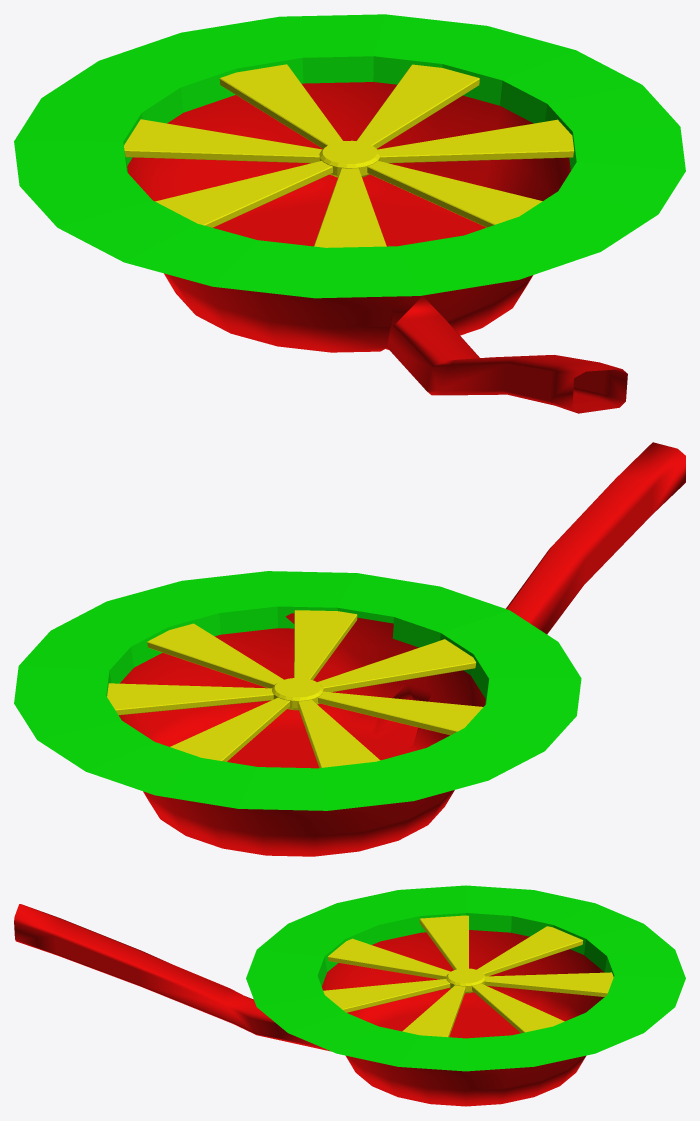
Rendered from crater.fbx.
3 views of the same model, one above another, from view 1: azimuth 30°, elevation 25°; view 2: azimuth 150°, elevation 25°; view 3: azimuth 270°, elevation 25° (orthographic). The views are drawn at different scales.
Parts seen in each view (by area): view 1: cover, crater, fan; view 2: cover, crater, fan; view 3: cover, crater, fan.
Part boxes in pixels (x1,y1,x2,y2): cover: [14, 14, 685, 298]; crater: [127, 82, 627, 413]; fan: [124, 64, 574, 247]; cover: [14, 571, 581, 810]; crater: [119, 442, 685, 856]; fan: [107, 610, 483, 767]; cover: [246, 885, 685, 1071]; crater: [14, 904, 604, 1106]; fan: [323, 915, 613, 1037].
Size of the model in its own units: 22.77 by 6.81 by 34.78.
